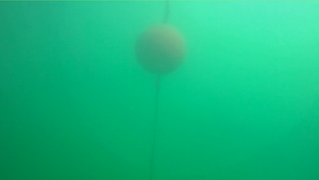buoy: (134, 23, 186, 75)
